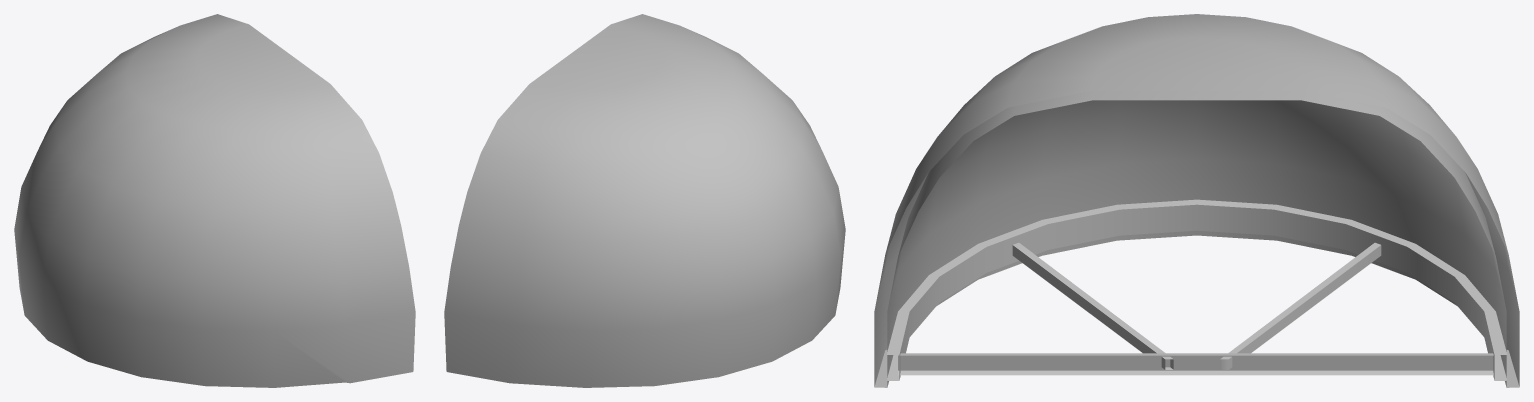
The model's file is MB_Canopy_01.fbx.
3 renders of one model, left to right at view 1: azimuth 30°, elevation 25°; view 2: azimuth 150°, elevation 25°; view 3: azimuth 270°, elevation 25°, orthographic. The views are drawn at different scales.
Visible parts, largest first — view 1: MB_Canopy_01; view 2: MB_Canopy_01; view 3: MB_Canopy_01.
Boxes of the visible parts, <box> form: MB_Canopy_01: <box>14,14,415,387</box>; MB_Canopy_01: <box>444,14,845,387</box>; MB_Canopy_01: <box>874,14,1519,387</box>.
Size of the model in its own units: 174 by 150 by 295.
